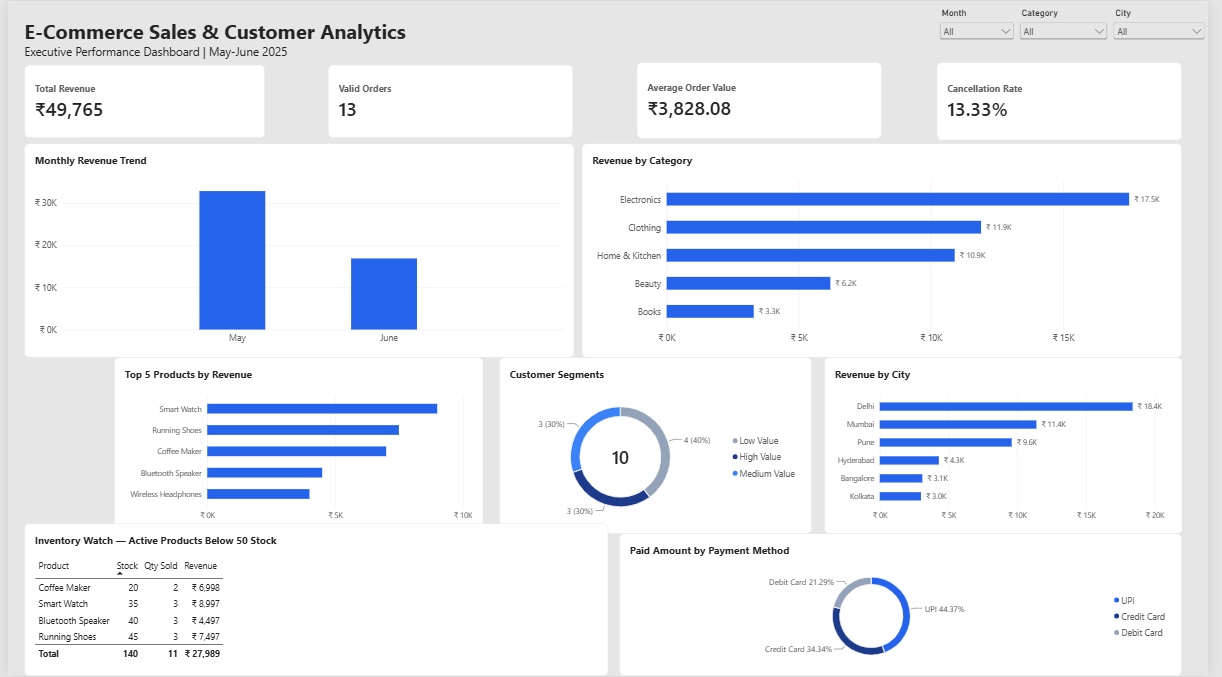

The page's visual inventory and layout, read from the dashboard file:
{"tool":"powerbi","page":{"name":"Executive Overview","canvas":[1920,1080],"ordinal":0},"visuals":[{"type":"cardVisual","fields":{"Data":["Categories.Total Revenue Card"]},"box":[25,102.5,385,117.5],"z":0},{"type":"cardVisual","fields":{"Data":["Categories.Average Order Value Card"]},"box":[1005,97.5,392.5,122.5],"z":1000},{"type":"cardVisual","fields":{"Data":["Categories.Valid Orders"]},"box":[512.5,102.5,392.5,117.5],"z":2000},{"type":"cardVisual","fields":{"Data":["Categories.Cancellation Rate"]},"box":[1485,97.5,392.5,125],"z":3000},{"type":"textbox","box":[25,25,635,42.5],"z":4000},{"type":"textbox","box":[25,67.5,590,35],"z":5000},{"type":"clusteredColumnChart","title":"Monthly Revenue Trend","fields":{"Category":["Orders.order_date.Variation.Date Hierarchy.Month"],"Y":["Categories.Total Revenue"]},"box":[25,227.5,880,342.5],"z":6000},{"type":"clusteredBarChart","title":"Revenue by Category","fields":{"Category":["Categories.category_name"],"Y":["Categories.Total Revenue"]},"box":[917.5,227.5,960,342.5],"z":7000},{"type":"clusteredBarChart","title":"Top 5 Products by Revenue","fields":{"Category":["Products.product_name"],"Y":["Categories.Total Revenue"]},"box":[170,570,590,282.5],"z":8000},{"type":"donutChart","title":"Customer Segments","fields":{"Category":["Customers.Customer Segment"],"Y":["Count(Customers.customer_id)"]},"box":[785,570,500,282.5],"z":9000},{"type":"clusteredBarChart","title":"Revenue by City","fields":{"Category":["Customers.city"],"Y":["Categories.Total Revenue"]},"box":[1305,570,572.5,282.5],"z":10000},{"type":"donutChart","title":"Paid Amount by Payment Method","fields":{"Category":["Payments.payment_method"],"Y":["Payments.Paid Amount"]},"box":[977.5,852.5,872.5,227.5],"z":11000},{"type":"tableEx","title":"Inventory Watch — Active Products Below 50 Stock","fields":{"Values":["Products.product_name","Sum(Products.stock)","Order Items.Total Quantity Sold","Categories.Total Revenue"]},"box":[25,852.5,935,227.5],"z":12000},{"type":"slicer","fields":{"Values":["Orders.Month Year"]},"box":[1485.7,10.9,128.5,97.7],"z":12001},{"type":"slicer","fields":{"Values":["Categories.category_name"]},"box":[1614.2,10.9,150,282],"z":12002},{"type":"slicer","fields":{"Values":["Customers.city"]},"box":[1764.4,10.9,155.6,295],"z":12003}]}

Visuals, with their boxes in screenshot pixels (x1, y1, x2, y2), scaled from the page's 1920x1080 canvas onto the 1222x677 screenshot:
cardVisual - Categories.Total Revenue Card: 16,64,261,138
cardVisual - Categories.Average Order Value Card: 640,61,889,138
cardVisual - Categories.Valid Orders: 326,64,576,138
cardVisual - Categories.Cancellation Rate: 945,61,1195,139
textbox: 16,16,420,42
textbox: 16,42,391,64
"Monthly Revenue Trend" clusteredColumnChart: 16,143,576,357
"Revenue by Category" clusteredBarChart: 584,143,1195,357
"Top 5 Products by Revenue" clusteredBarChart: 108,357,484,534
"Customer Segments" donutChart: 500,357,818,534
"Revenue by City" clusteredBarChart: 831,357,1195,534
"Paid Amount by Payment Method" donutChart: 622,534,1177,676
"Inventory Watch — Active Products Below 50 Stock" tableEx: 16,534,611,676
slicer - Orders.Month Year: 946,7,1027,68
slicer - Categories.category_name: 1027,7,1123,184
slicer - Customers.city: 1123,7,1221,192
